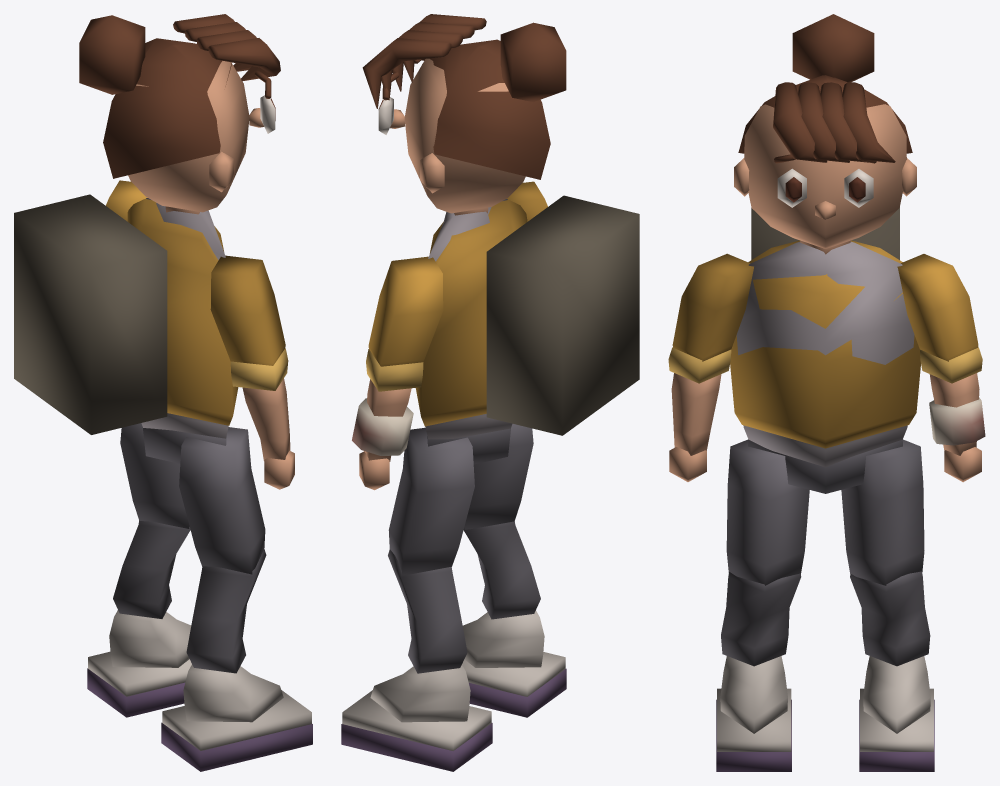
3 renders of one model, left to right at view 1: azimuth 30°, elevation 25°; view 2: azimuth 150°, elevation 25°; view 3: azimuth 270°, elevation 25°, orthographic. The views are drawn at different scales.
Parts seen in each view (by area): view 1: torso_pal_picketWhite, head_pal_picketWhite, footR_pal_picketWhite, legR_pal_picketWhite, footL_pal_picketWhite, armR_pal_picketWhite, shinR_pal_picketWhite, shinL_pal_picketWhite, legL_pal_picketWhite, foreArmR_pal_picketWhite, hip_pal_picketWhite, handR_pal_picketWhite (+1 smaller); view 2: torso_pal_picketWhite, head_pal_picketWhite, footL_pal_picketWhite, legL_pal_picketWhite, footR_pal_picketWhite, armL_pal_picketWhite, shinL_pal_picketWhite, foreArmL_pal_picketWhite, shinR_pal_picketWhite, legR_pal_picketWhite, hip_pal_picketWhite, handL_pal_picketWhite (+1 smaller); view 3: torso_pal_picketWhite, head_pal_picketWhite, legR_pal_picketWhite, legL_pal_picketWhite, footR_pal_picketWhite, footL_pal_picketWhite, armR_pal_picketWhite, armL_pal_picketWhite, shinL_pal_picketWhite, shinR_pal_picketWhite, foreArmL_pal_picketWhite, foreArmR_pal_picketWhite (+3 smaller).
Part boxes in pixels (box(x1,y1,x2,y2)): torso_pal_picketWhite: box(14, 194, 238, 438); head_pal_picketWhite: box(79, 14, 280, 214); footR_pal_picketWhite: box(161, 664, 312, 771); legR_pal_picketWhite: box(179, 427, 265, 574); footL_pal_picketWhite: box(87, 610, 191, 717); armR_pal_picketWhite: box(210, 255, 285, 365); shinR_pal_picketWhite: box(186, 549, 266, 673); shinL_pal_picketWhite: box(113, 520, 190, 618); legL_pal_picketWhite: box(120, 423, 189, 528); foreArmR_pal_picketWhite: box(230, 348, 290, 460); hip_pal_picketWhite: box(143, 428, 226, 463); handR_pal_picketWhite: box(264, 450, 294, 489); torso_pal_picketWhite: box(415, 195, 639, 439); head_pal_picketWhite: box(362, 14, 566, 215); footL_pal_picketWhite: box(341, 665, 492, 771); legL_pal_picketWhite: box(388, 427, 474, 574); footR_pal_picketWhite: box(462, 610, 566, 717); armL_pal_picketWhite: box(368, 256, 443, 366); shinL_pal_picketWhite: box(388, 549, 467, 673); foreArmL_pal_picketWhite: box(352, 349, 423, 461); shinR_pal_picketWhite: box(463, 521, 540, 619); legR_pal_picketWhite: box(464, 424, 533, 529); hip_pal_picketWhite: box(427, 428, 510, 464); handL_pal_picketWhite: box(359, 451, 389, 490); torso_pal_picketWhite: box(730, 207, 920, 467); head_pal_picketWhite: box(734, 14, 916, 254); legR_pal_picketWhite: box(726, 439, 809, 585); legL_pal_picketWhite: box(841, 439, 924, 585); footR_pal_picketWhite: box(716, 656, 791, 771); footL_pal_picketWhite: box(859, 656, 934, 771); armR_pal_picketWhite: box(672, 253, 753, 361); armL_pal_picketWhite: box(897, 254, 978, 361); shinL_pal_picketWhite: box(850, 571, 930, 666); shinR_pal_picketWhite: box(721, 572, 801, 666); foreArmL_pal_picketWhite: box(920, 347, 985, 455); foreArmR_pal_picketWhite: box(668, 347, 731, 455).
Bounding box in the file's own units: 0.4548 × 1.44 × 0.5993.
